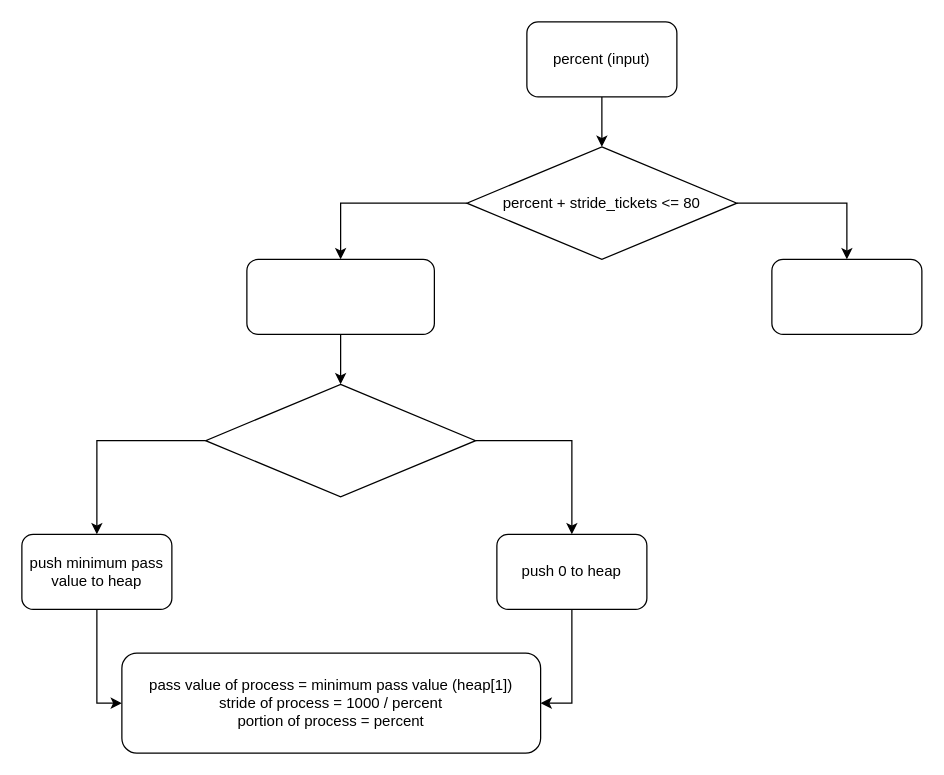
This 944x775 diagram has some shape labels left out. The centre of each missing label's shape, as x and y in pixels:
Fail to allocate: (x=846, y=296)
heap_count == 0: (x=340, y=440)
stride_tickets += percent: (x=340, y=296)
